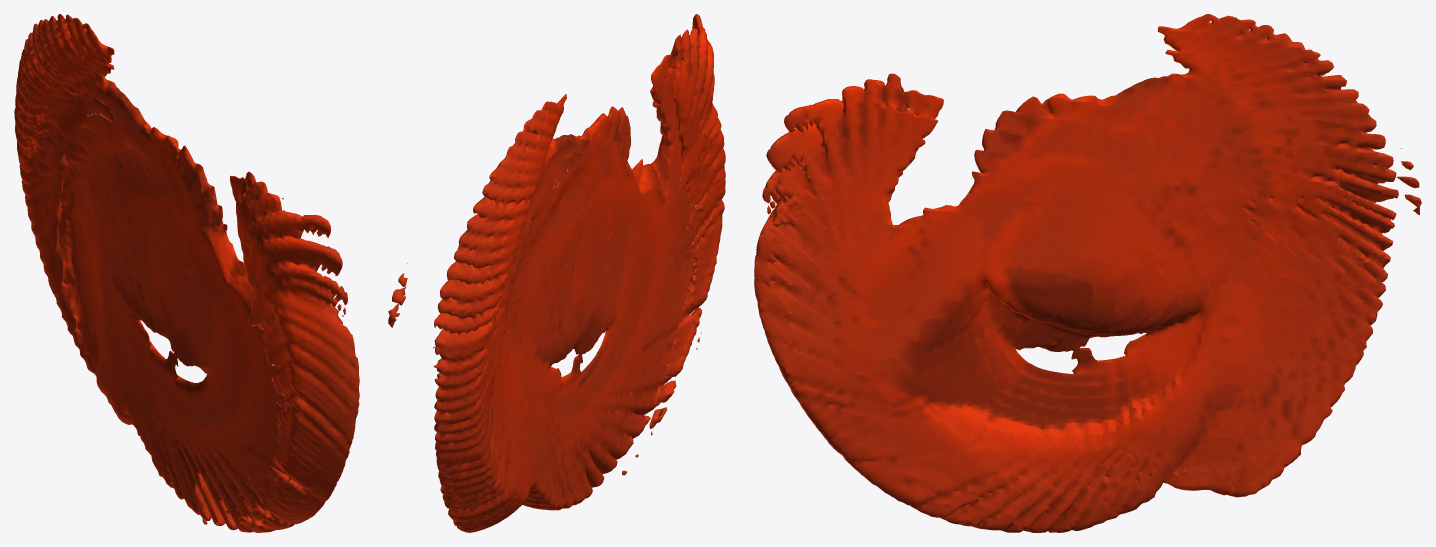
File: sauce.fbx
3 renders of one model, left to right at view 1: azimuth 30°, elevation 25°; view 2: azimuth 150°, elevation 25°; view 3: azimuth 270°, elevation 25°, orthographic. The views are drawn at different scales.
Parts seen in each view (by area): view 1: Layer_1; view 2: Layer_1; view 3: Layer_1.
Boxes of the visible parts, x1=… form: Layer_1: x1=14, y1=14, x2=359, y2=532; Layer_1: x1=388, y1=14, x2=725, y2=532; Layer_1: x1=754, y1=14, x2=1421, y2=532.
Bounding box in the file's own units: 0.1558 × 0.9398 × 0.759.
